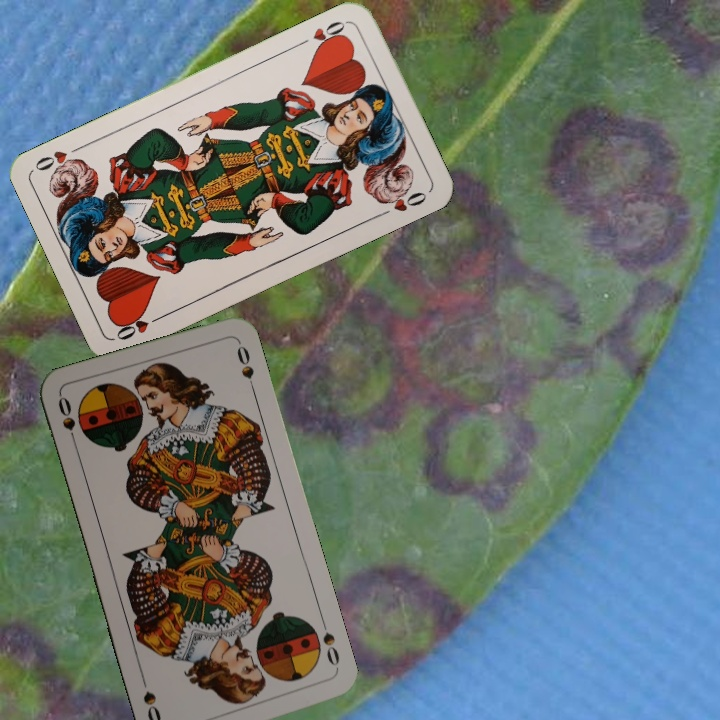HO: (294, 17, 350, 52), (112, 309, 167, 343)
SO: (54, 392, 81, 450), (317, 617, 342, 676)
